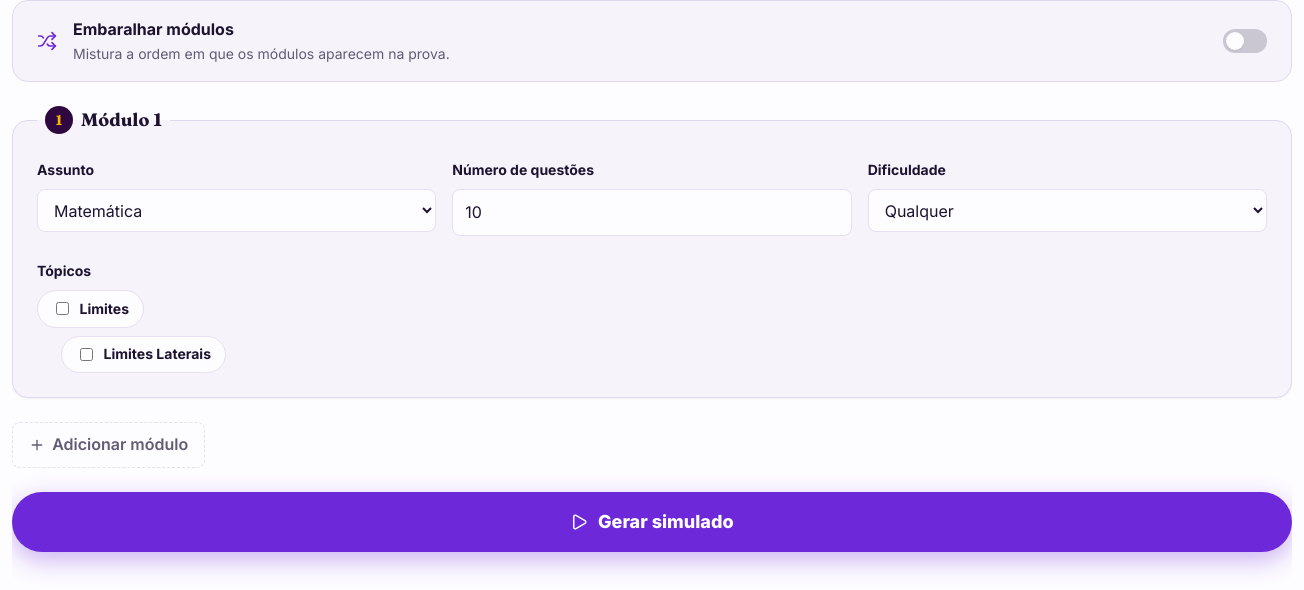
Test: SimuladoSetup › selecting every subtopic individually also selects the parent topic
This screenshot has width=1304, height=590.
Click the checkbox labelled "Limites Laterais". click: point(86, 354)
box: left=80, top=348, right=93, bottom=361
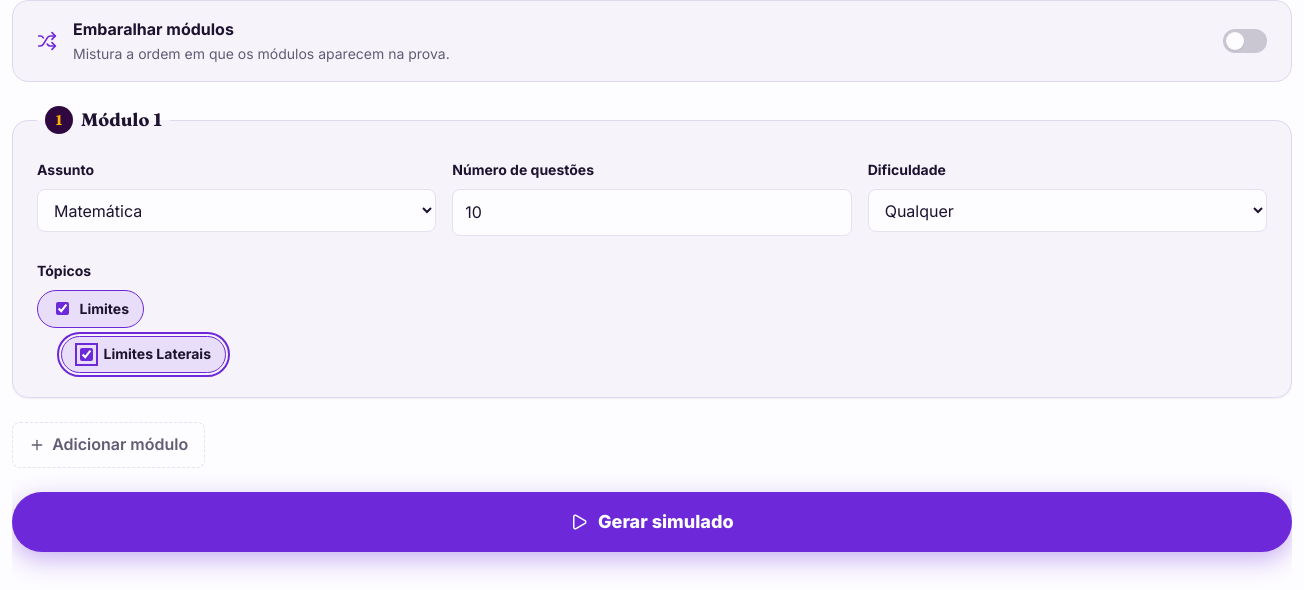
Now the checkbox labelled "Limites Laterais" is checked, box left=80, top=348, right=93, bottom=361
Now the checkbox labelled "Limites" is checked, box left=56, top=302, right=69, bottom=315
